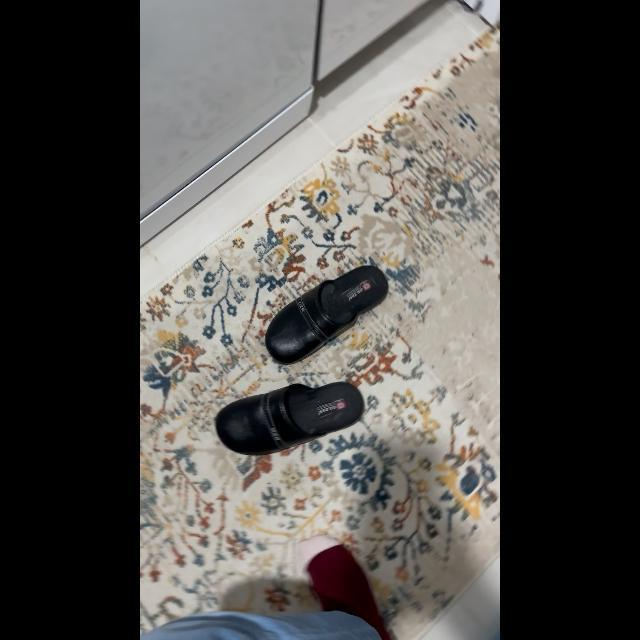slipper: (216, 373, 368, 459), (268, 262, 390, 360)
